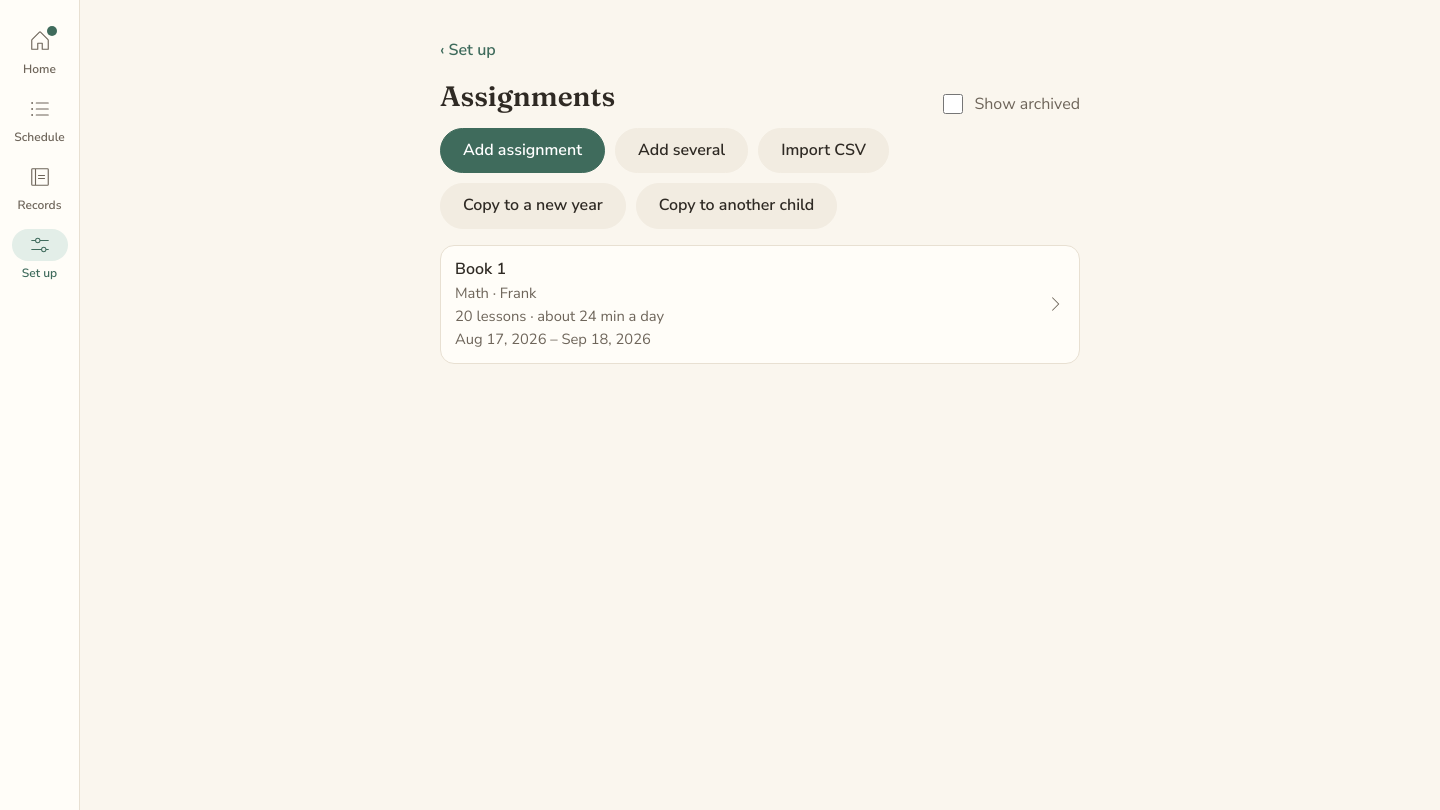
Copy to a new year (S7-01) › sits beside Add several and Import CSV and asks for the two first days before listing anything
Expected: the list named "Assignments" is shown, top-left (440, 245), bottom-right (1080, 364)
What coordinates should you click on to do the following:
click the button "Copy to a new year"
I would click on:
 (533, 206)
Its box is top-left (440, 183), bottom-right (626, 229).
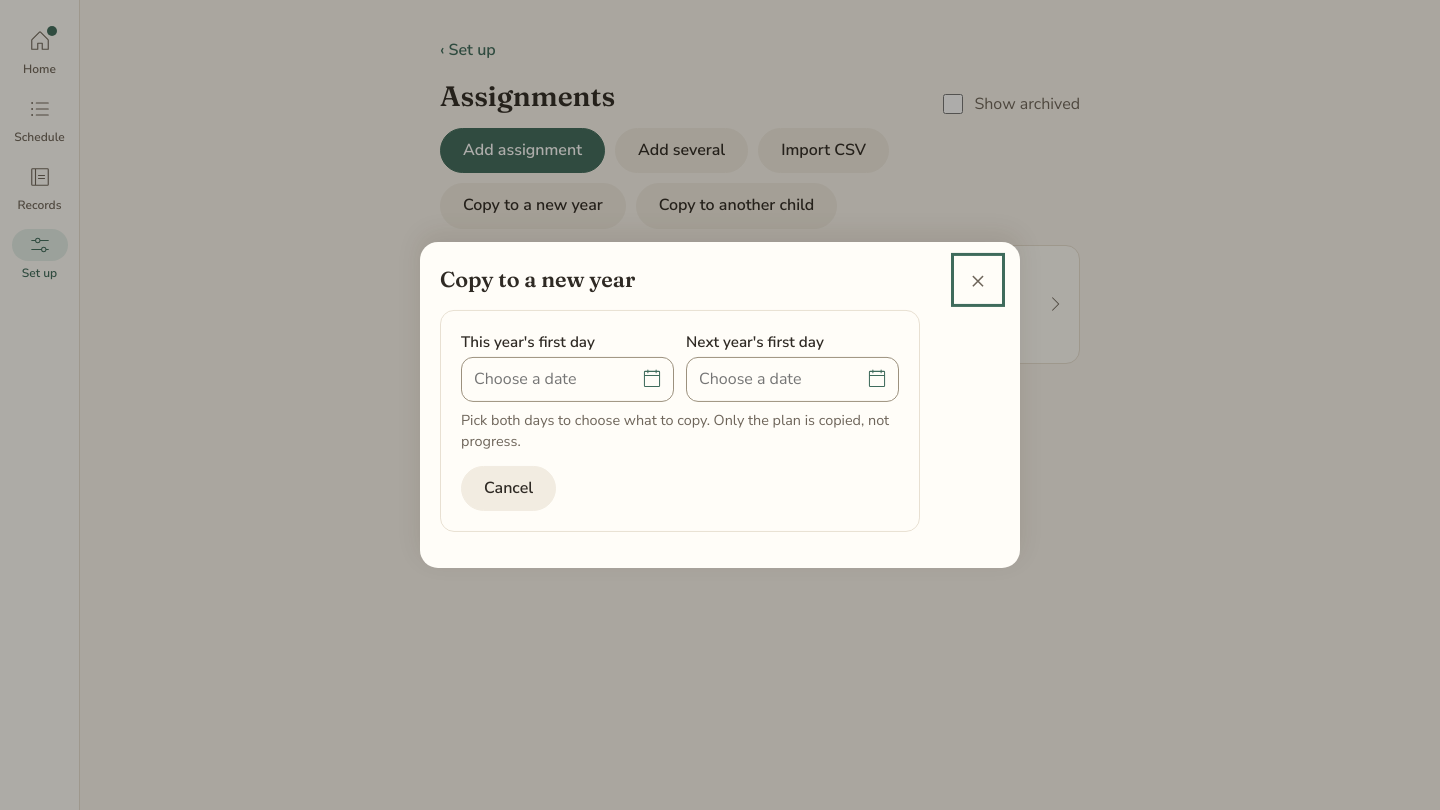
Now the field labelled "This year's first day" is empty, box top-left (461, 357), bottom-right (674, 402)
Now the text "Pick both days" is shown, box top-left (461, 410), bottom-right (889, 451)
